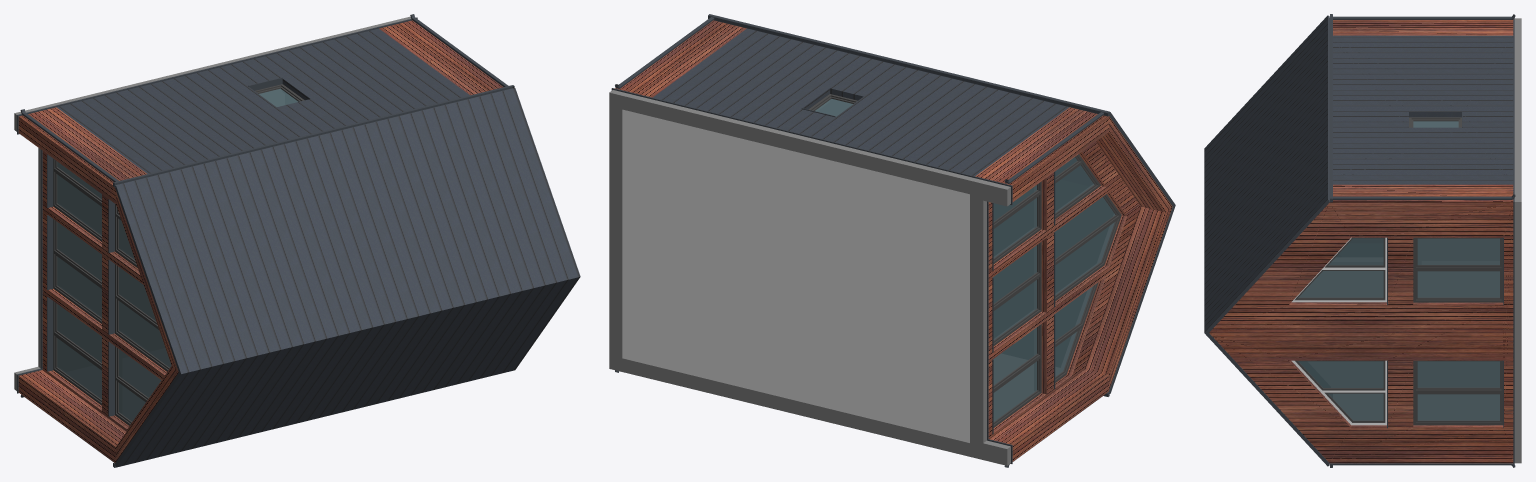
Rendered from DOM 1b_3D_rev10.obj.
3 views of the same model, side by side, from view 1: azimuth 30°, elevation 25°; view 2: azimuth 150°, elevation 25°; view 3: azimuth 270°, elevation 25° (orthographic). The views are drawn at different scales.
Visible parts, largest first — view 1: Mesh1 Model; view 2: Mesh1 Model; view 3: Mesh1 Model, Mesh4 Model, Mesh5 Model, Mesh3 Model.
Boxes of the visible parts, x1,y1,x2,y2 form: Mesh1 Model: (14,16,580,467); Mesh1 Model: (609,14,1175,465); Mesh1 Model: (1204,14,1521,466); Mesh4 Model: (1333,194,1515,199); Mesh5 Model: (1333,14,1515,19); Mesh3 Model: (1333,463,1515,467).
Bounding box in the file's own units: 1062 × 730 × 771.
Materials: 10 (3 with a texture image).
